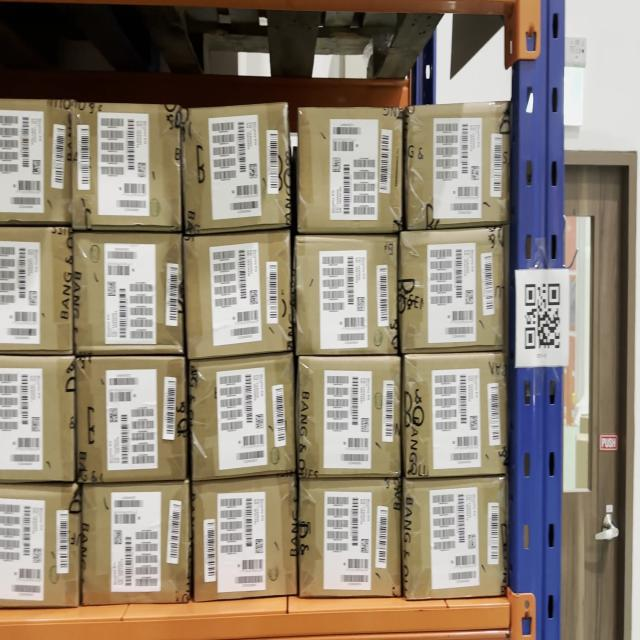box: (72, 228, 186, 360), (79, 352, 189, 482), (73, 102, 184, 230), (181, 107, 293, 231), (400, 230, 508, 354), (404, 356, 511, 478), (297, 477, 405, 597), (188, 356, 294, 478), (185, 236, 292, 356), (297, 356, 401, 478), (299, 108, 400, 233), (408, 104, 510, 226), (194, 480, 299, 597), (82, 486, 190, 598), (402, 483, 508, 597), (294, 237, 398, 344), (0, 225, 76, 360), (0, 352, 74, 481), (0, 95, 72, 224), (1, 483, 78, 601)
